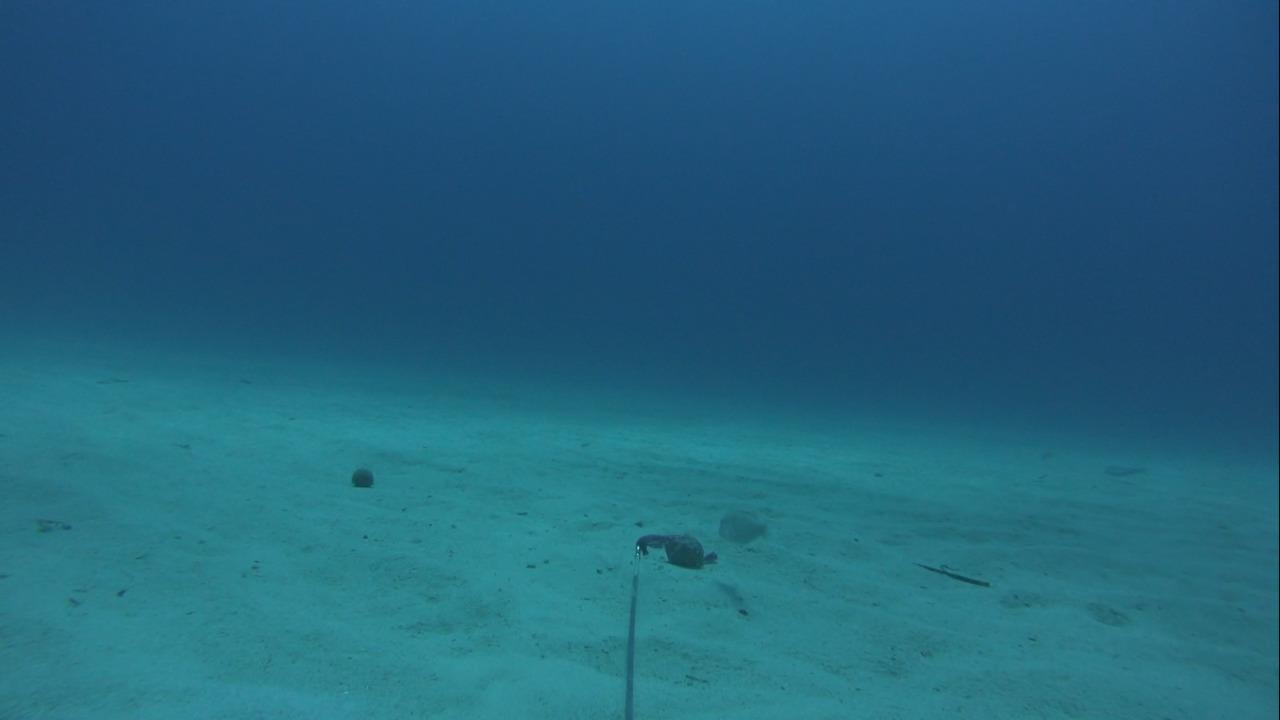raor: (712, 505, 777, 549)
